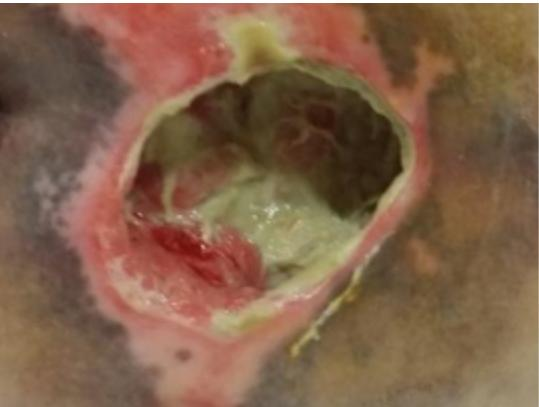Stage4: (82, 50, 460, 336)
